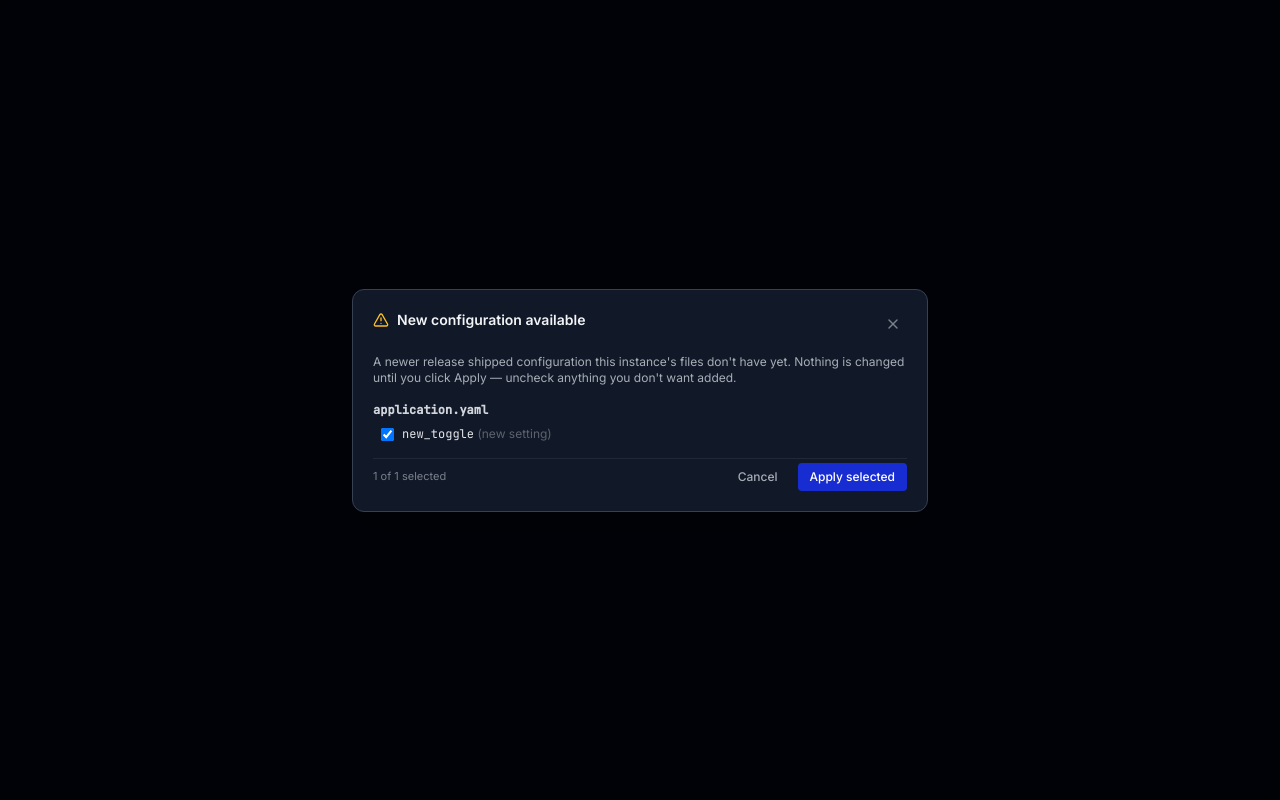
Test: ConfigDriftModal › shows an inline error and does not close on apply failure
This screenshot has width=1280, height=800.
Click the button "Apply selected": (852, 476) [798,462,907,490]
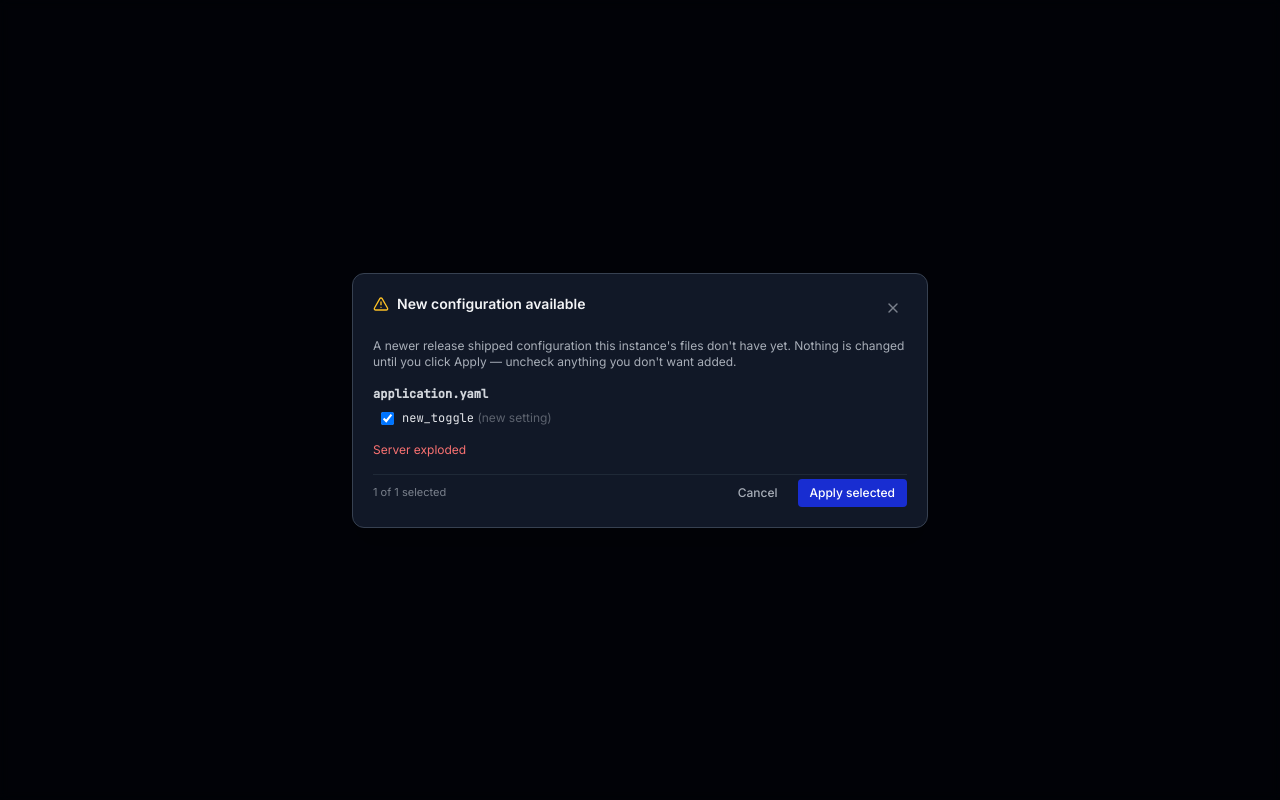
Check: the message reads "Server exploded", box [373,442,466,456]
